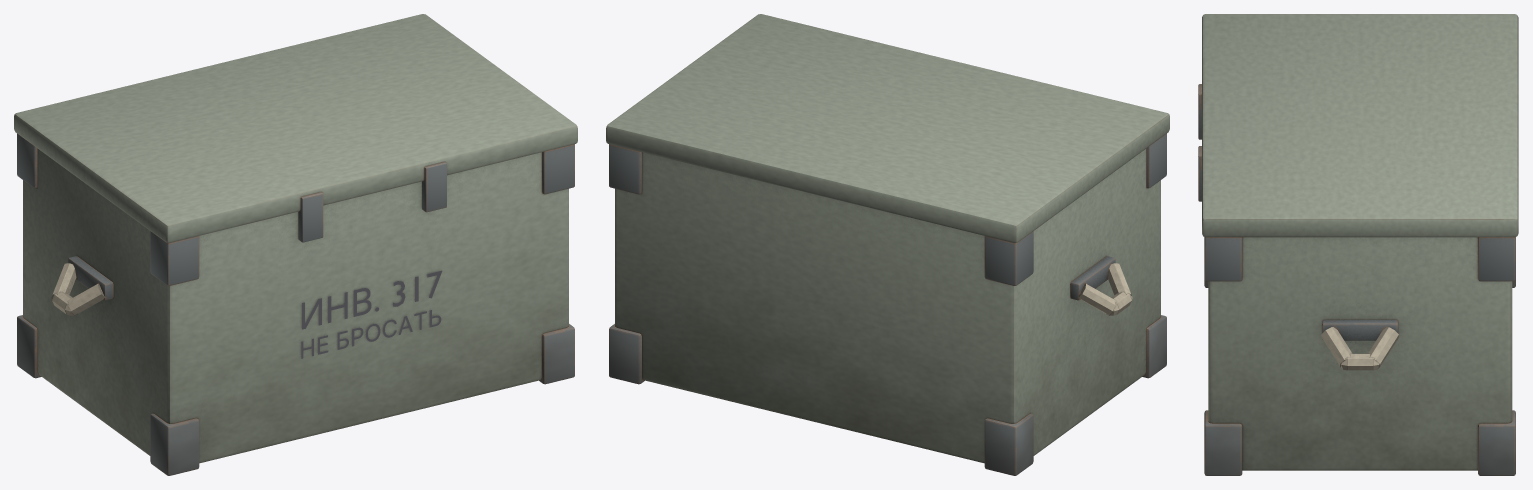
File: soviet_crate.glb
The picture shows the model from 3 angles, left to right: view 1: azimuth 30°, elevation 25°; view 2: azimuth 150°, elevation 25°; view 3: azimuth 270°, elevation 25°; orthographic projection. The views are drawn at different scales.
Visible parts, largest first — view 1: soviet_crate; view 2: soviet_crate; view 3: soviet_crate.
Part boxes in pixels (bbox=[...]): soviet_crate: bbox=[14, 14, 577, 475]; soviet_crate: bbox=[606, 14, 1169, 475]; soviet_crate: bbox=[1198, 14, 1518, 475].
Bounding box in the file's own units: 0.888 × 0.452 × 0.5055.
Materials: 1 (1 with a texture image).
